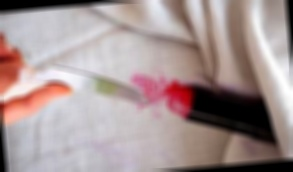lipstick: (127, 63, 176, 117)
